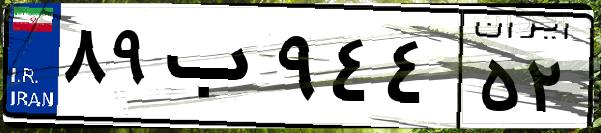2: (525, 38, 570, 115)
4: (385, 28, 445, 110), (330, 28, 385, 110)
5: (475, 38, 525, 113)
8: (57, 26, 110, 100)
9: (270, 28, 330, 110), (110, 28, 158, 98)
ب: (158, 20, 270, 120)
